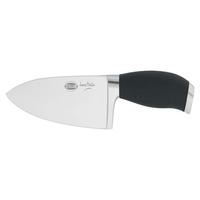knife: (2, 68, 197, 131)
